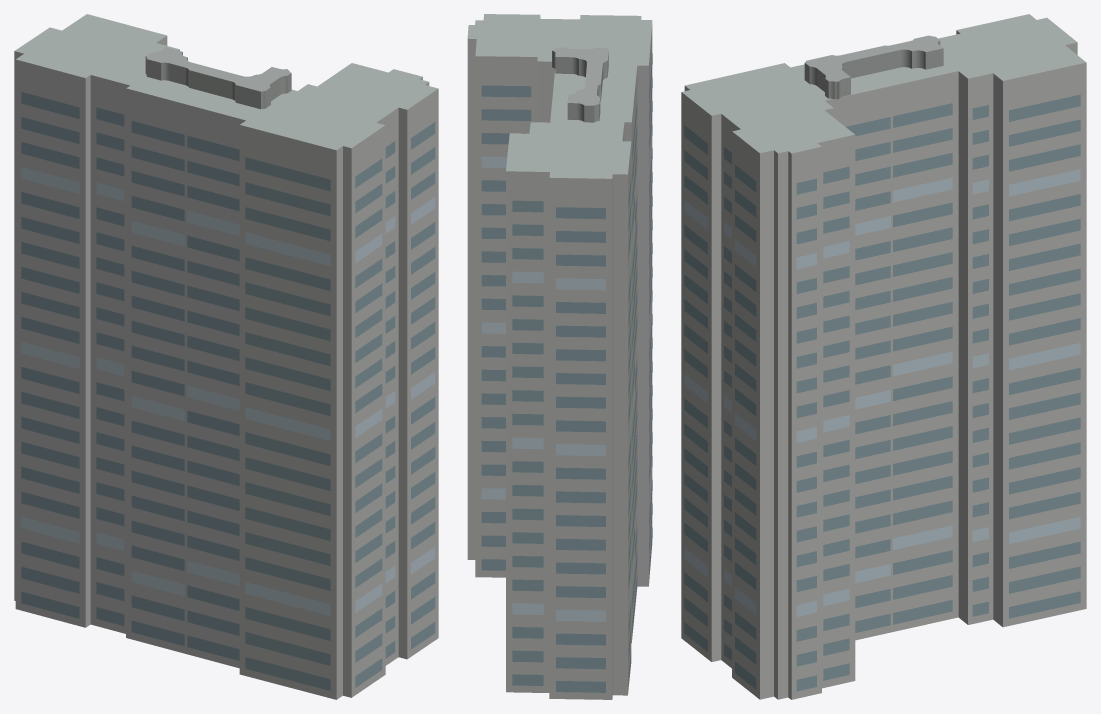
File: fallback-acro-riverpark-102.glb
3 views of the same model, side by side, from view 1: azimuth 30°, elevation 25°; view 2: azimuth 150°, elevation 25°; view 3: azimuth 270°, elevation 25° (orthographic). The views are drawn at different scales.
Visible parts, largest first — view 1: fallback-acro-riverpark-102; view 2: fallback-acro-riverpark-102; view 3: fallback-acro-riverpark-102.
Part boxes in pixels (<box>): fallback-acro-riverpark-102: <box>14,14,438,699</box>; fallback-acro-riverpark-102: <box>467,14,652,699</box>; fallback-acro-riverpark-102: <box>681,14,1086,699</box>.
Bounding box in the file's own units: 40.88 × 77 × 50.12.
